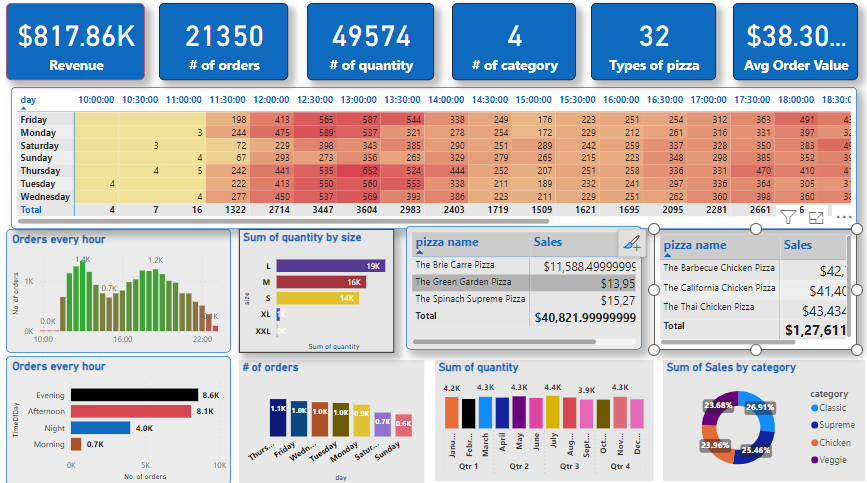

The page's visual inventory and layout, read from the dashboard file:
{"tool":"powerbi","page":{"name":"Front Page","canvas":[1280,720],"ordinal":0},"visuals":[{"type":"columnChart","title":"Sum of quantity","fields":{"Y":["Sum(order_details.quantity)"],"Category":["orders.date.Variation.Date Hierarchy.Quarter","orders.date.Variation.Date Hierarchy.Month"]},"box":[641,537.1,320.5,177.1],"z":0},{"type":"card","fields":{"Values":["Sum(order_details.Sales)"]},"box":[13.2,14.6,203.4,112.7],"z":1000},{"type":"card","fields":{"Values":["order_details.No. of orders"]},"box":[237.1,14.6,188.8,112.7],"z":2000},{"type":"card","fields":{"Values":["Sum(order_details.quantity)"]},"box":[453.7,14.6,185.9,112.7],"z":3000},{"type":"donutChart","fields":{"Category":["pizza_types.category"],"Y":["Sum(order_details.Sales)"]},"box":[974.6,537.1,295.6,177.1],"z":4000},{"type":"columnChart","title":"Orders every hour","fields":{"Category":["orders.Custom time"],"Y":["order_details.No. of orders"]},"box":[13.2,345.4,329.3,181.5],"z":5000},{"type":"columnChart","title":"# of orders","fields":{"Category":["orders.day"],"Y":["order_details.No. of orders"]},"box":[354.1,537.1,270.7,182.9],"z":6000},{"type":"pivotTable","fields":{"Rows":["orders.day"],"Columns":["orders.Custom time"],"Values":["CountNonNull(order_details.order_id)"]},"box":[20.5,137.6,1238,207.8],"z":7000},{"type":"card","fields":{"Values":["Count(pizza_types.category)"]},"box":[665.9,14.6,181.5,112.7],"z":8000},{"type":"card","fields":{"Values":["CountNonNull(pizza_types.category)"]},"box":[869.3,14.6,182.9,112.7],"z":9000},{"type":"card","fields":{"Values":["order_details.Avg Order Value"]},"box":[1077.1,14.6,182.9,112.7],"z":10000},{"type":"barChart","fields":{"Category":["pizzas.size"],"Y":["Sum(order_details.quantity)"]},"box":[354.1,345.4,226.8,181.5],"z":11000},{"type":"pivotTable","fields":{"Rows":["pizza_types.name"],"Values":["Sum(order_details.Sales)"]},"box":[598.5,341,345.4,181.5],"z":12000},{"type":"pivotTable","fields":{"Rows":["pizza_types.name"],"Values":["Sum(order_details.Sales)"]},"box":[961.5,335.1,308.8,191.7],"z":13000},{"type":"barChart","title":"Orders every hour","fields":{"Category":["orders.TimeOfDay"],"Y":["order_details.No. of orders"]},"box":[13.2,531.2,329.3,188.8],"z":14000}]}

Visuals, with their boxes in screenshot pixels (x1, y1, x2, y2), scaled from the page's 1280x720 canvas onto the 867x483 screenshot:
"Sum of quantity" columnChart: (x1=434, y1=360, x2=651, y2=479)
card - Sum(order_details.Sales): (x1=9, y1=10, x2=147, y2=85)
card - order_details.No. of orders: (x1=161, y1=10, x2=288, y2=85)
card - Sum(order_details.quantity): (x1=307, y1=10, x2=433, y2=85)
donutChart - pizza_types.category x Sum(order_details.Sales): (x1=660, y1=360, x2=860, y2=479)
"Orders every hour" columnChart: (x1=9, y1=232, x2=232, y2=353)
"# of orders" columnChart: (x1=240, y1=360, x2=423, y2=482)
pivotTable - orders.day x orders.Custom time: (x1=14, y1=92, x2=852, y2=232)
card - Count(pizza_types.category): (x1=451, y1=10, x2=574, y2=85)
card - CountNonNull(pizza_types.category): (x1=589, y1=10, x2=713, y2=85)
card - order_details.Avg Order Value: (x1=730, y1=10, x2=853, y2=85)
barChart - pizzas.size x Sum(order_details.quantity): (x1=240, y1=232, x2=393, y2=353)
pivotTable - pizza_types.name x Sum(order_details.Sales): (x1=405, y1=229, x2=639, y2=351)
pivotTable - pizza_types.name x Sum(order_details.Sales): (x1=651, y1=225, x2=860, y2=353)
"Orders every hour" barChart: (x1=9, y1=356, x2=232, y2=482)
